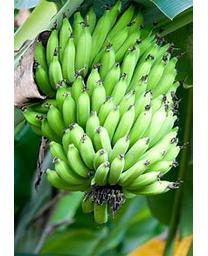banana: (21, 0, 183, 202)
